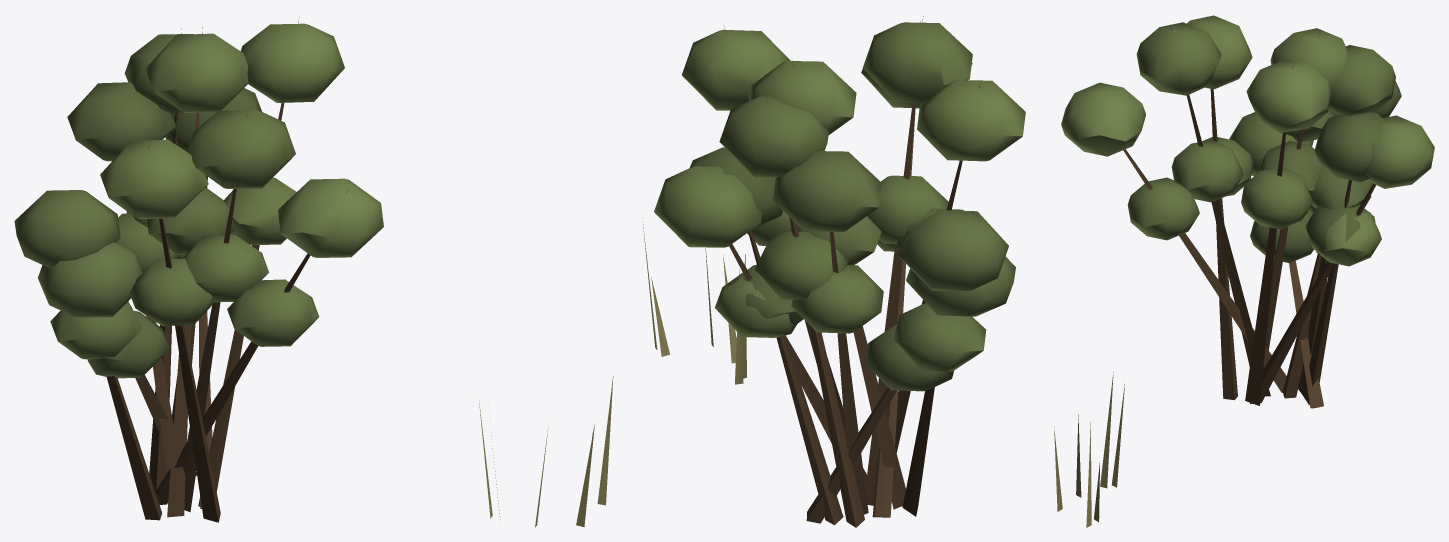
Rendered from desert_scrub_b_lod2.glb.
The picture shows the model from 3 angles, left to right: view 1: azimuth 30°, elevation 25°; view 2: azimuth 150°, elevation 25°; view 3: azimuth 270°, elevation 25°; orthographic projection. The views are drawn at different scales.
Parts seen in each view (by area): view 1: Surface.001; view 2: Surface.001; view 3: Surface.001.
Boxes of the visible parts, x1,y1,x2,y2 form: Surface.001: [14, 19, 613, 527]; Surface.001: [642, 16, 1025, 527]; Surface.001: [1054, 15, 1434, 527].
Size of the model in its own units: 2.63 by 2.42 by 2.13.
